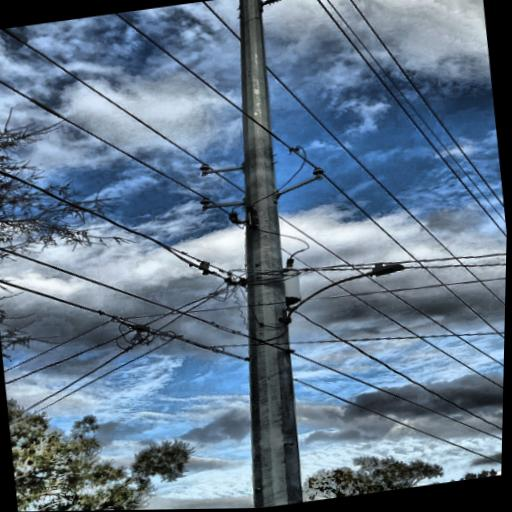pole: (169, 0, 340, 509)
street light: (272, 256, 415, 327)
